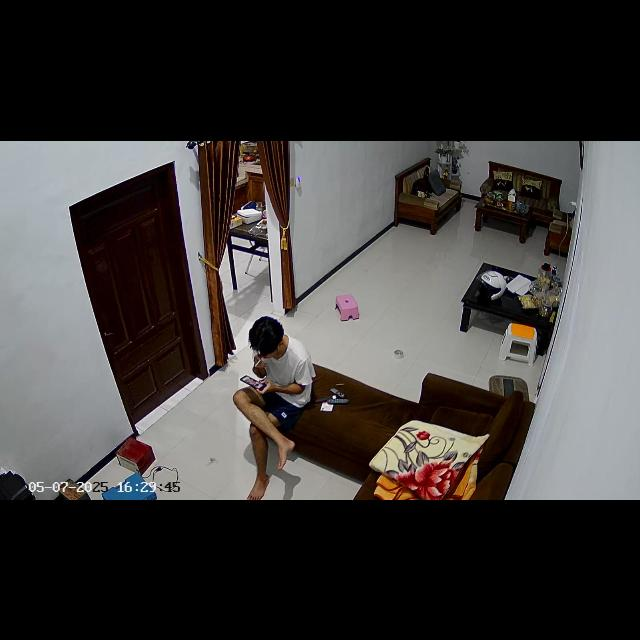rokok: (253, 358, 260, 368)
